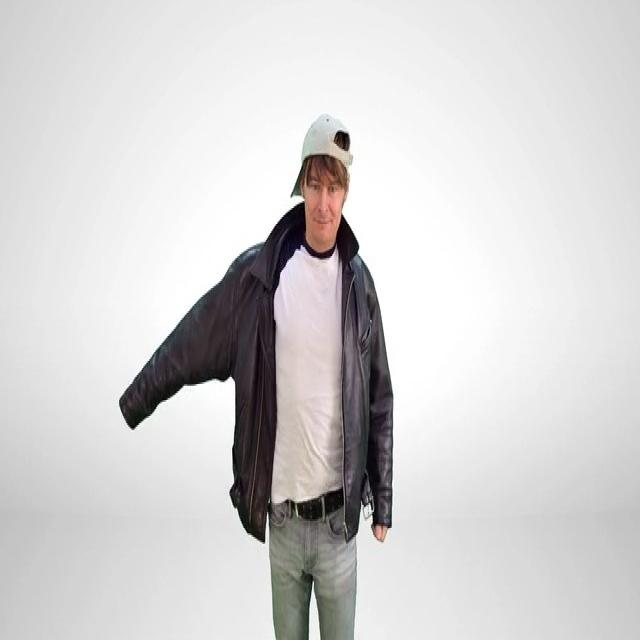Jacket_Wearer: (122, 210, 393, 540)
Person: (117, 120, 397, 640)
